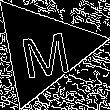M_N: (15, 21, 72, 78)
